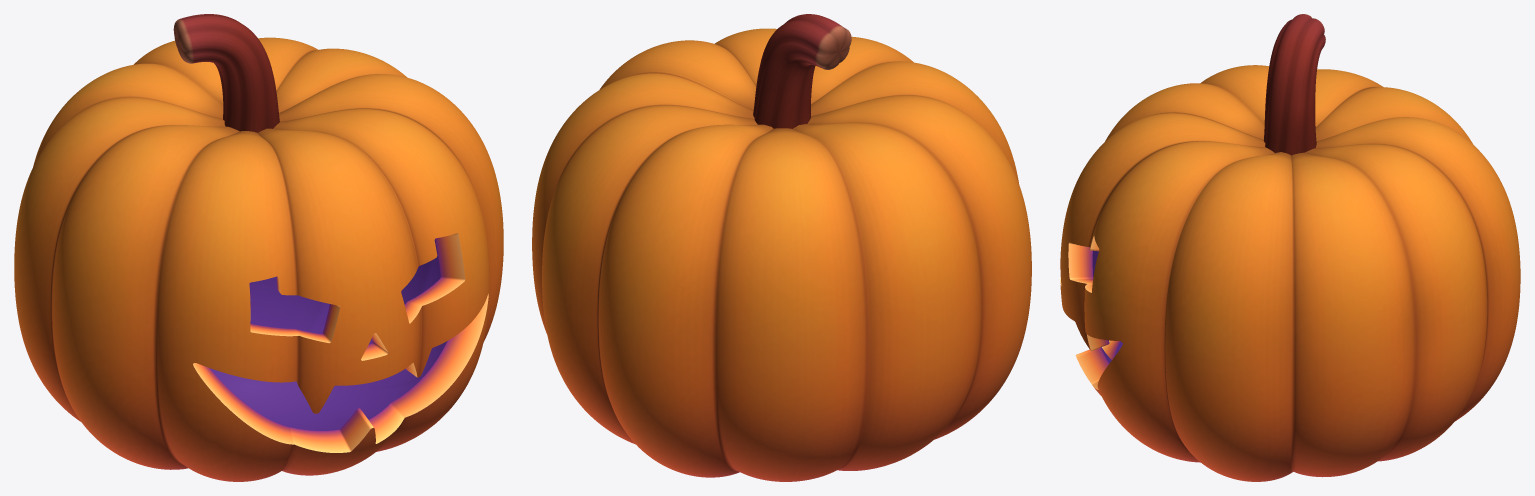
File: pumpkin.glb
3 views of the same model, side by side, from view 1: azimuth 30°, elevation 25°; view 2: azimuth 150°, elevation 25°; view 3: azimuth 270°, elevation 25° (orthographic). The views are drawn at different scales.
Visible parts, largest first — view 1: Body, Stem; view 2: Body, Stem; view 3: Body, Stem.
Boxes of the visible parts, x1,y1,x2,y2 form: Body: [14, 37, 503, 481]; Stem: [173, 14, 279, 132]; Body: [532, 28, 1031, 481]; Stem: [753, 14, 851, 128]; Body: [1060, 65, 1520, 481]; Stem: [1263, 14, 1325, 155].
Size of the model in its own units: 0.994 by 0.9377 by 0.9994.
4 materials, 4 textured.
